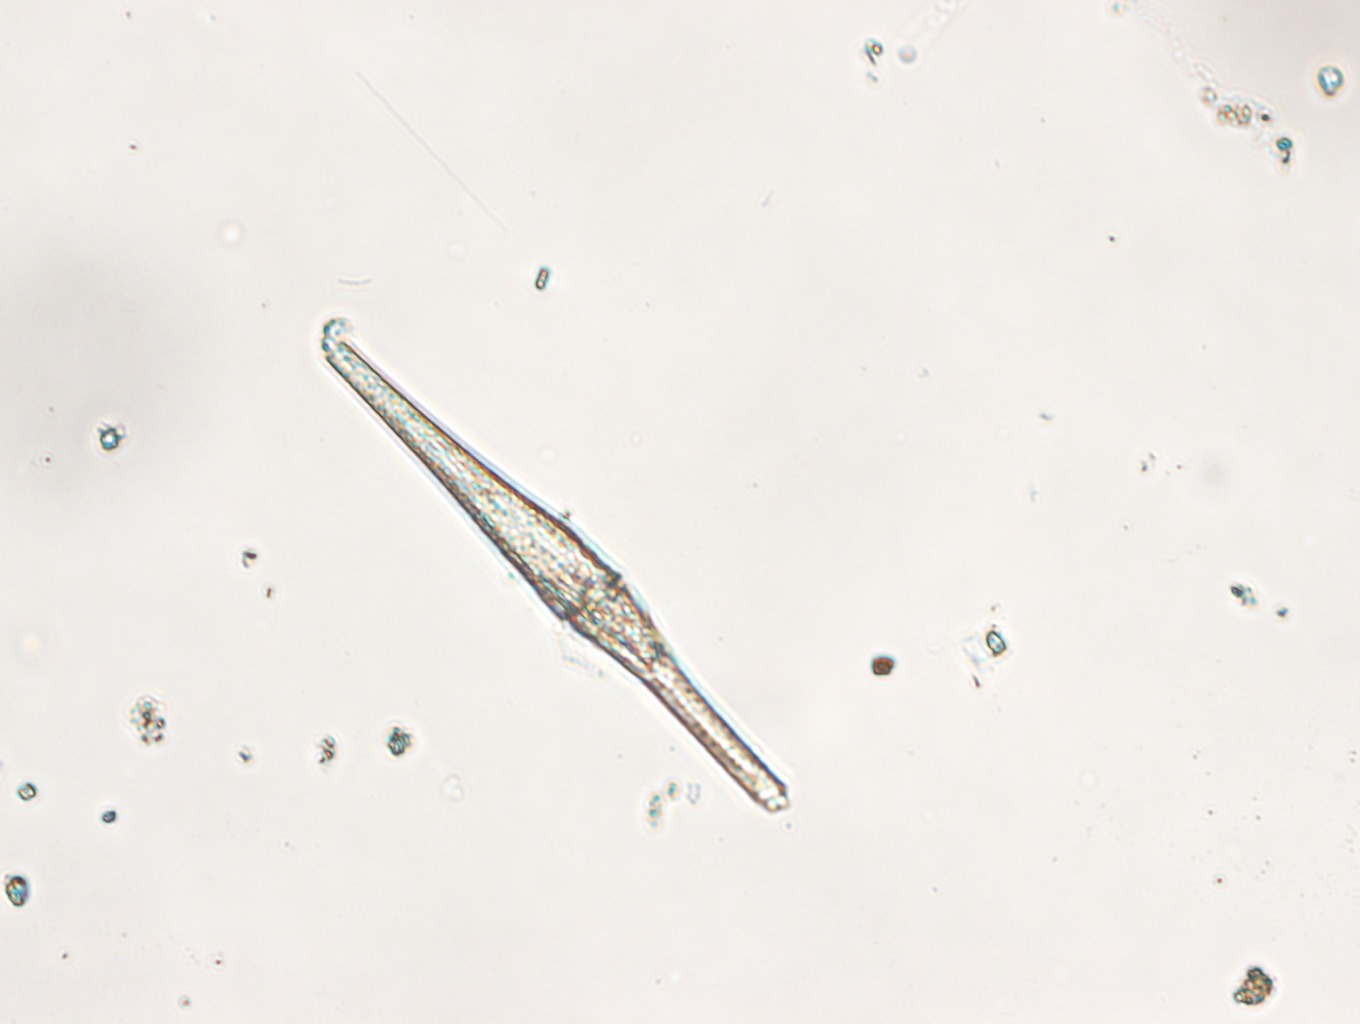ceratium fusus: (310, 327, 794, 824)
